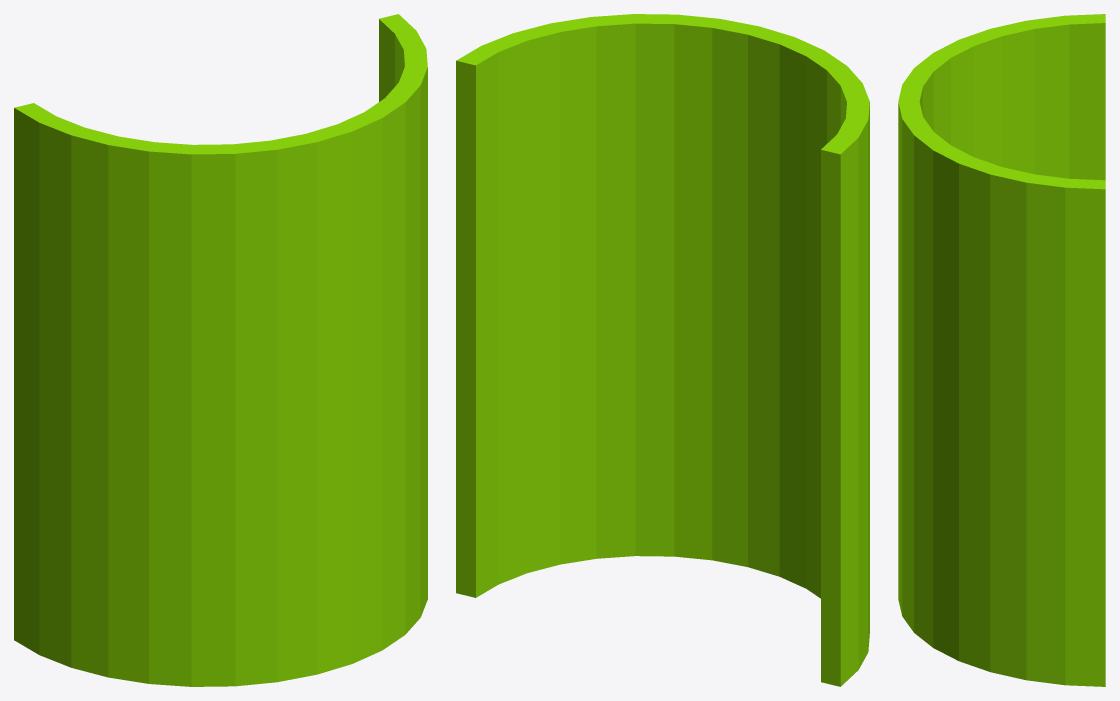
File: Wall_03_Half_Bend_01.fbx
The picture shows the model from 3 angles, left to right: view 1: azimuth 30°, elevation 25°; view 2: azimuth 150°, elevation 25°; view 3: azimuth 270°, elevation 25°; orthographic projection. The views are drawn at different scales.
Parts seen in each view (by area): view 1: Wall_03_Half_Bend_01; view 2: Wall_03_Half_Bend_01; view 3: Wall_03_Half_Bend_01.
Boxes of the visible parts, bbox=[...] form: Wall_03_Half_Bend_01: bbox=[14, 14, 427, 686]; Wall_03_Half_Bend_01: bbox=[456, 14, 869, 686]; Wall_03_Half_Bend_01: bbox=[898, 14, 1105, 686].
Size of the model in its own units: 432 by 572 by 216.
